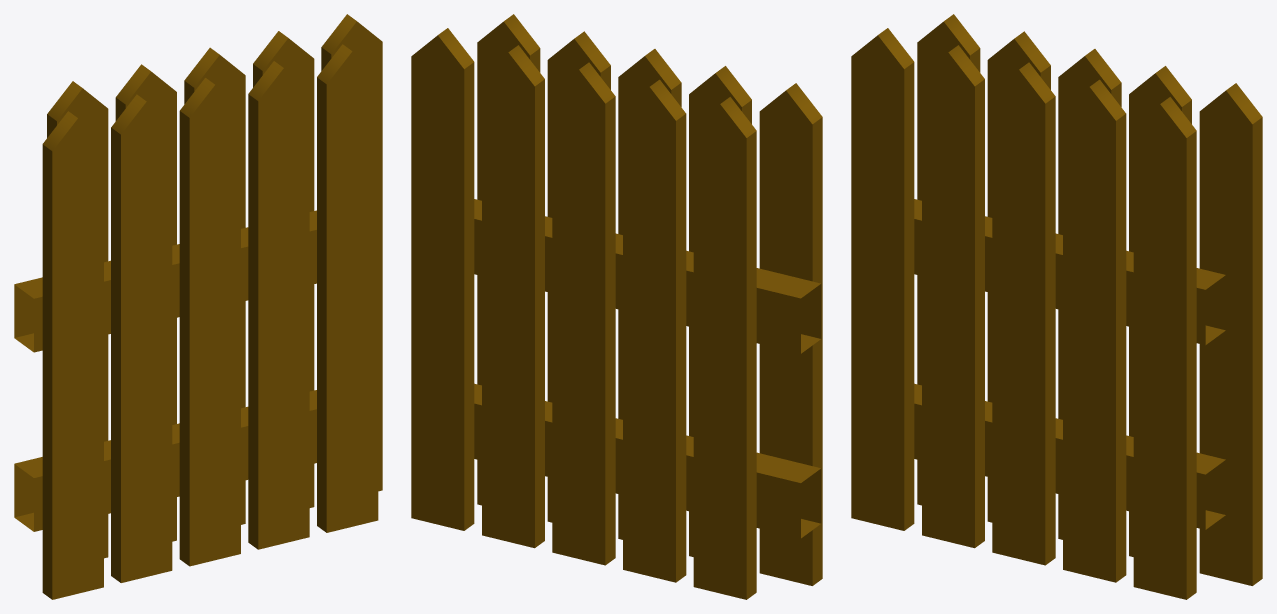
File: Fence_01.fbx
The picture shows the model from 3 angles, left to right: view 1: azimuth 30°, elevation 25°; view 2: azimuth 150°, elevation 25°; view 3: azimuth 330°, elevation 25°; orthographic projection. The views are drawn at different scales.
Parts seen in each view (by area): view 1: FencePiece_01; view 2: FencePiece_01; view 3: FencePiece_01.
Part boxes in pixels (box(x1,y1,x2,y2)): FencePiece_01: box(14, 14, 382, 599); FencePiece_01: box(411, 14, 822, 599); FencePiece_01: box(851, 14, 1262, 599).
Bounding box in the file's own units: 2.15 × 2.65 × 0.4.
